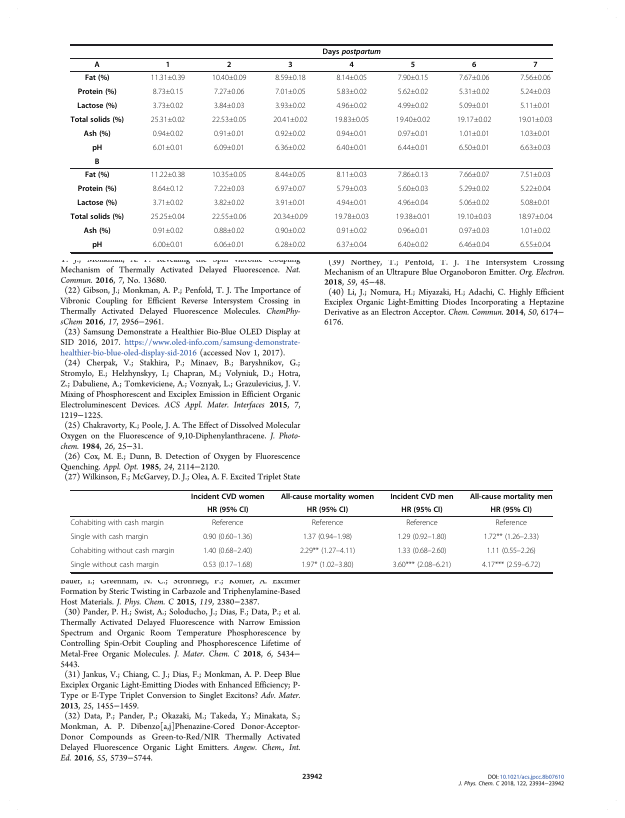borderless: (70, 43, 552, 252), (69, 488, 552, 572)
cell: (69, 546, 175, 556), (69, 518, 165, 528), (70, 560, 160, 570), (280, 492, 375, 501), (69, 532, 149, 542), (469, 492, 553, 501), (190, 492, 265, 501), (392, 560, 452, 570), (481, 560, 541, 570), (389, 492, 454, 501), (483, 532, 540, 542), (299, 546, 356, 556), (70, 115, 125, 125), (70, 212, 125, 222), (322, 47, 382, 56), (300, 560, 354, 570), (202, 532, 253, 542), (302, 532, 353, 542), (396, 532, 447, 542), (202, 546, 253, 556), (396, 546, 447, 556), (486, 546, 537, 556), (202, 560, 253, 570), (206, 505, 249, 515), (306, 505, 349, 515), (400, 505, 443, 515), (490, 505, 533, 515), (76, 101, 118, 111), (76, 198, 118, 208), (77, 87, 117, 97), (77, 184, 117, 194), (405, 518, 439, 528), (494, 518, 528, 528), (211, 518, 244, 528), (311, 518, 344, 528), (83, 129, 111, 139), (83, 226, 111, 236), (84, 73, 110, 83), (84, 170, 110, 180), (150, 74, 186, 81), (211, 74, 247, 81), (150, 116, 186, 123), (211, 116, 247, 123), (272, 116, 308, 123), (334, 116, 370, 123), (395, 116, 431, 123), (456, 116, 492, 123), (517, 116, 553, 123), (150, 171, 186, 178), (211, 171, 247, 178), (150, 213, 186, 220), (211, 213, 247, 220), (272, 213, 308, 220), (334, 213, 370, 220), (395, 213, 431, 220), (456, 213, 492, 220), (517, 213, 553, 220), (274, 74, 307, 81), (335, 74, 368, 81), (519, 74, 552, 81), (274, 88, 307, 95), (335, 88, 368, 95), (519, 88, 552, 95), (274, 102, 307, 109), (335, 102, 368, 109), (519, 102, 552, 109), (274, 130, 307, 137), (335, 130, 368, 137), (519, 130, 552, 137), (274, 144, 307, 151), (335, 144, 368, 151), (519, 144, 552, 151), (274, 171, 307, 178), (335, 171, 368, 178), (519, 171, 552, 178), (274, 185, 307, 192), (335, 185, 368, 192), (519, 185, 552, 192), (274, 199, 307, 206), (335, 199, 368, 206), (519, 199, 552, 206), (274, 227, 307, 234), (335, 227, 368, 234), (519, 227, 552, 234), (274, 241, 307, 248), (335, 241, 368, 248), (519, 241, 552, 248), (397, 74, 429, 81), (458, 74, 490, 81), (152, 88, 184, 95), (213, 88, 245, 95), (397, 88, 429, 95), (458, 88, 490, 95), (152, 102, 184, 109), (213, 102, 245, 109), (397, 102, 429, 109), (458, 102, 490, 109), (152, 130, 184, 137), (213, 130, 245, 137), (397, 130, 429, 137), (458, 130, 490, 137), (152, 144, 184, 151), (213, 144, 245, 151), (397, 144, 429, 151), (458, 144, 490, 151), (397, 171, 429, 178), (458, 171, 490, 178), (152, 185, 184, 192), (213, 185, 245, 192), (397, 185, 429, 192), (458, 185, 490, 192), (152, 199, 184, 206), (213, 199, 245, 206), (397, 199, 429, 206), (458, 199, 490, 206), (152, 227, 184, 234), (213, 227, 245, 234), (397, 227, 429, 234), (458, 227, 490, 234), (152, 241, 184, 248), (213, 241, 245, 248), (397, 241, 429, 248), (458, 241, 490, 248), (91, 143, 103, 153), (91, 240, 103, 250), (94, 60, 101, 70), (348, 60, 355, 70), (165, 60, 171, 70), (226, 60, 232, 70), (287, 60, 293, 70), (410, 60, 416, 70), (471, 60, 477, 70), (532, 60, 538, 70), (94, 157, 100, 167)
